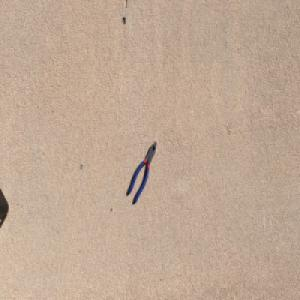Pliers: (127, 140, 157, 204)
